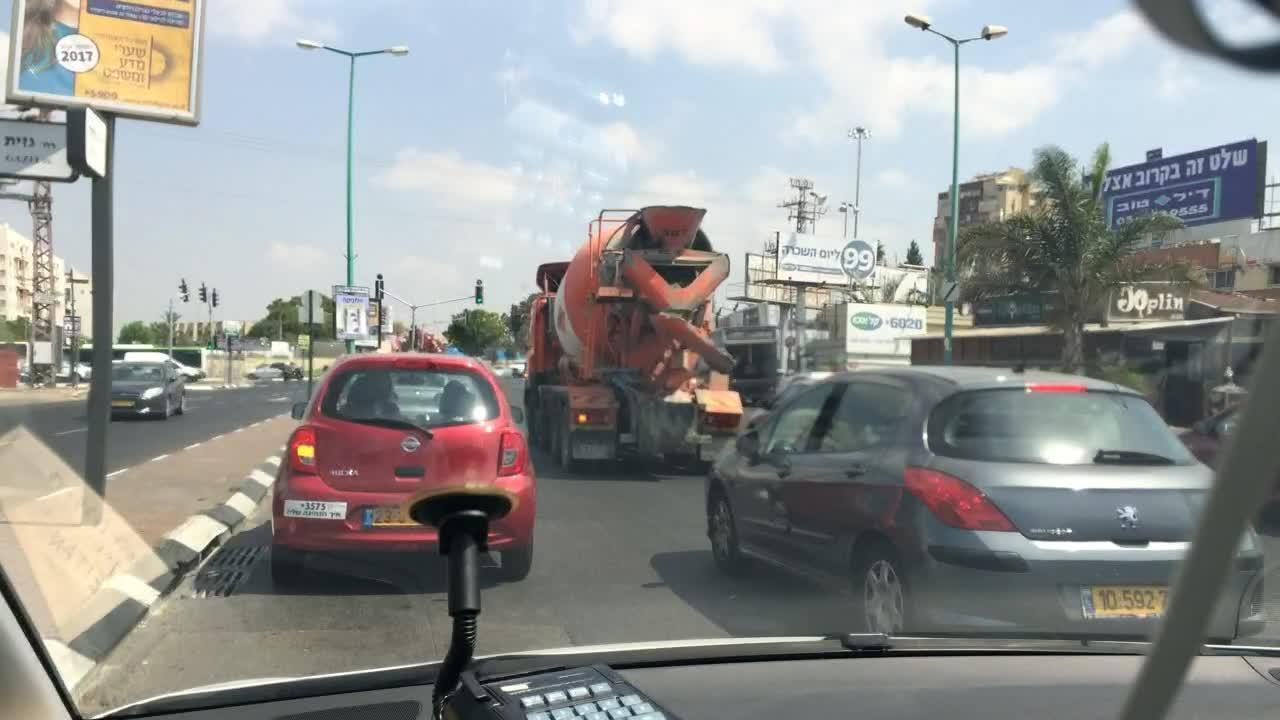Nissan: (399, 434, 422, 458)
no class: (1114, 496, 1141, 543)
